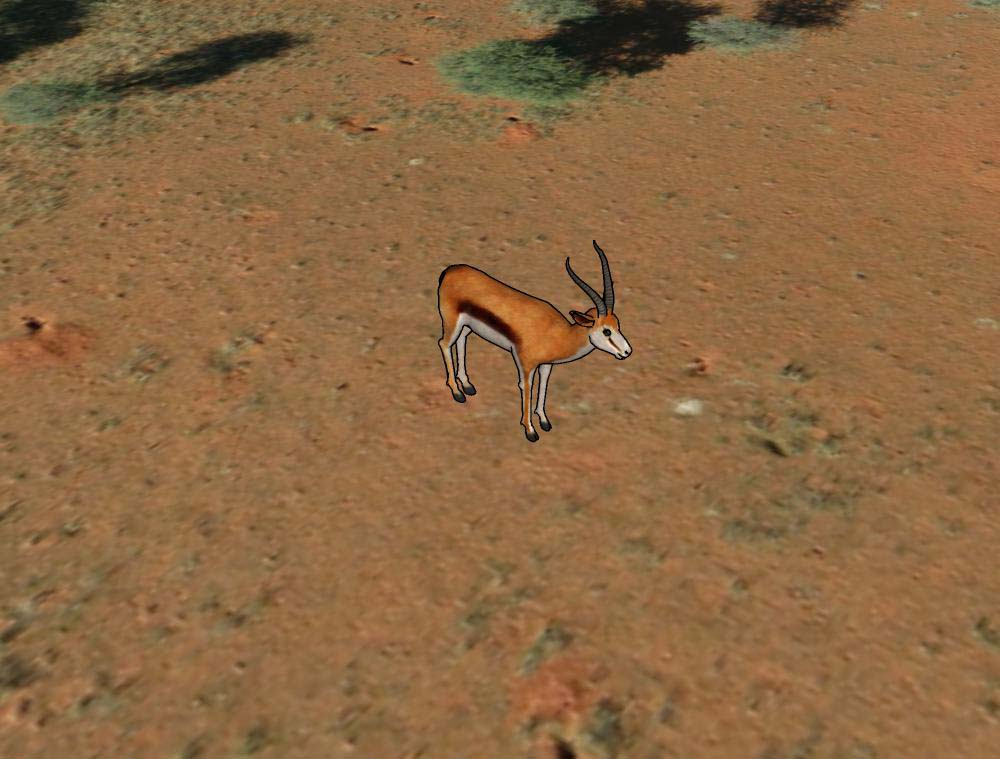springbok: (434, 238, 635, 442)
